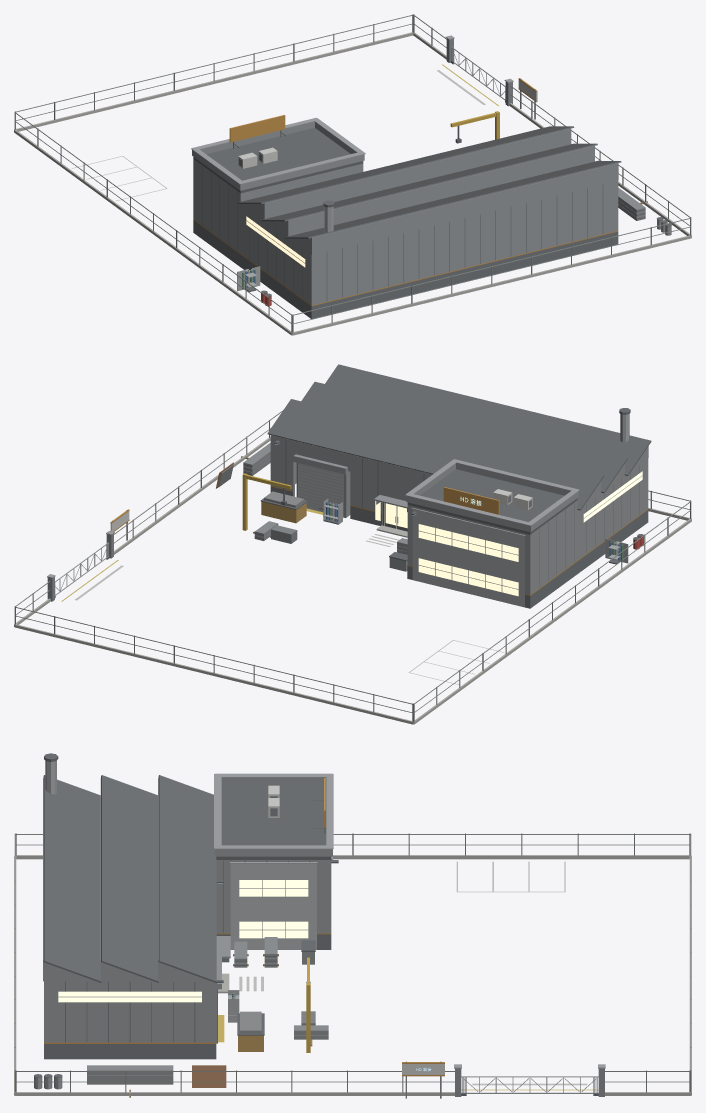
The model's file is biz_4004.glb.
3 views of the same model, one above another, from view 1: azimuth 30°, elevation 25°; view 2: azimuth 150°, elevation 25°; view 3: azimuth 270°, elevation 25° (orthographic). The views are drawn at different scales.
Parts seen in each view (by area): view 1: Static, Windows; view 2: Static, Windows, Shutter_Down; view 3: Static, Windows, Gate_Closed.
Part boxes in pixels (bbox=[...]): Static: bbox=[14, 14, 691, 335]; Windows: bbox=[246, 216, 305, 267]; Static: bbox=[14, 364, 691, 724]; Windows: bbox=[375, 471, 642, 596]; Shutter_Down: bbox=[298, 463, 344, 517]; Static: bbox=[14, 753, 691, 1098]; Windows: bbox=[58, 880, 308, 1002]; Gate_Closed: bbox=[461, 1076, 598, 1095].
Size of the model in its own units: 39.6 by 10.2 by 47.16.
